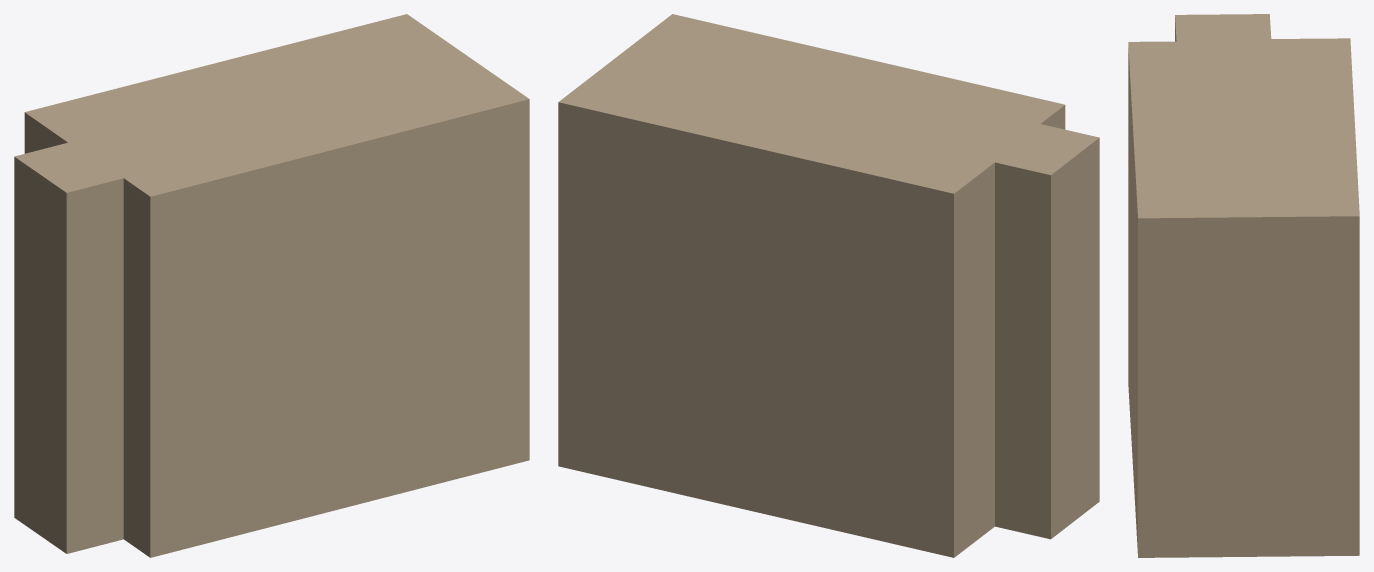
The model's file is bld_106415315.dae.
3 views of the same model, side by side, from view 1: azimuth 30°, elevation 25°; view 2: azimuth 150°, elevation 25°; view 3: azimuth 270°, elevation 25° (orthographic). The views are drawn at different scales.
Visible parts, largest first — view 1: bld_106415315; view 2: bld_106415315; view 3: bld_106415315.
Boxes of the visible parts, x1,y1,x2,y2 form: bld_106415315: [14, 14, 529, 557]; bld_106415315: [558, 14, 1099, 557]; bld_106415315: [1128, 14, 1359, 557].
Bounding box in the file's own units: 10.32 × 4.95 × 8.
